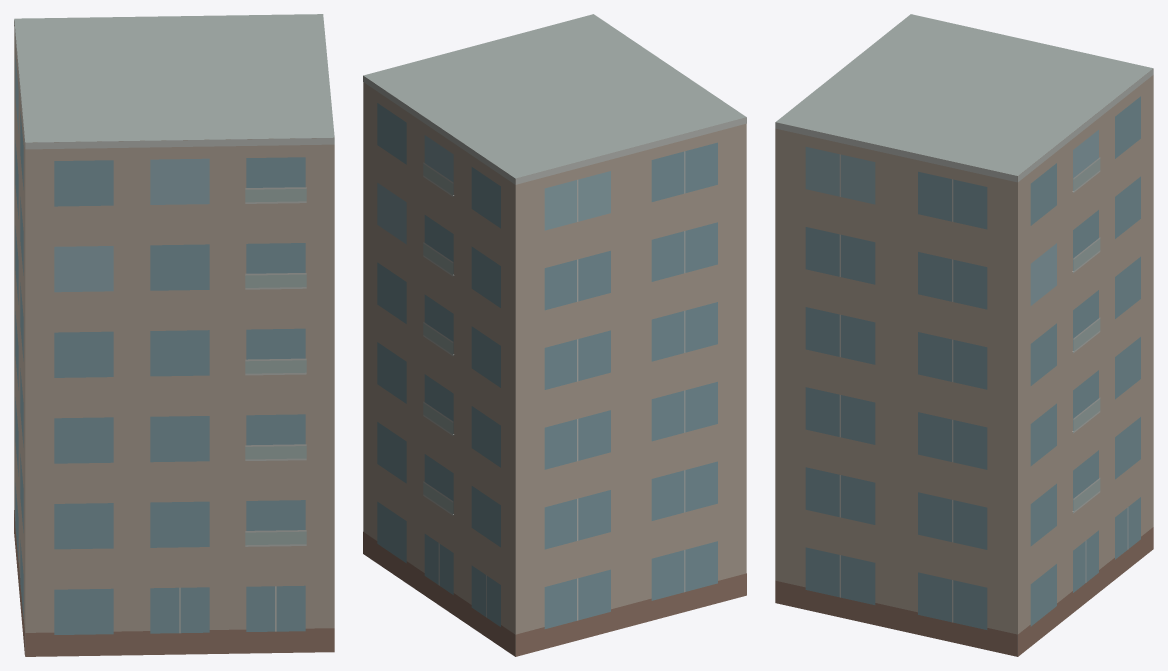
File: survey-upis-32532352.glb
The picture shows the model from 3 angles, left to right: view 1: azimuth 30°, elevation 25°; view 2: azimuth 150°, elevation 25°; view 3: azimuth 270°, elevation 25°; orthographic projection. The views are drawn at different scales.
Visible parts, largest first — view 1: survey-upis-32532352.tmp; view 2: survey-upis-32532352.tmp; view 3: survey-upis-32532352.tmp.
Boxes of the visible parts, <box> form: survey-upis-32532352.tmp: <box>14,14,334,656</box>; survey-upis-32532352.tmp: <box>363,14,746,656</box>; survey-upis-32532352.tmp: <box>775,14,1153,656</box>.
Bounding box in the file's own units: 13.24 × 18.3 × 13.05.
